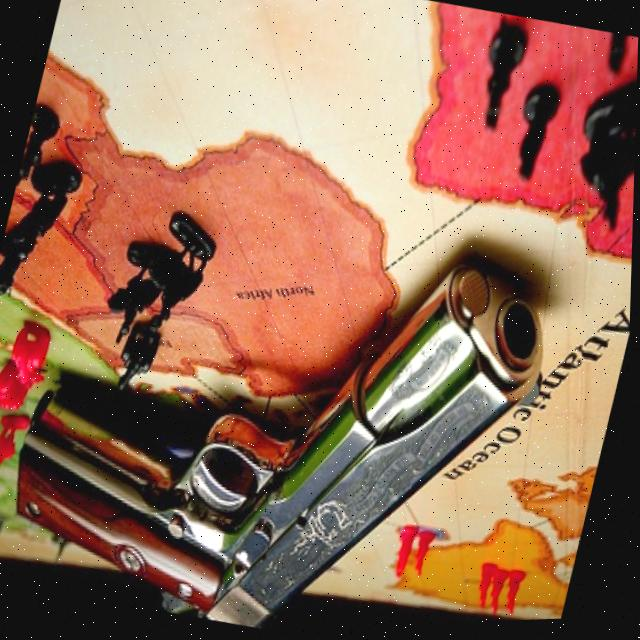pistol: (0, 165, 576, 640)
